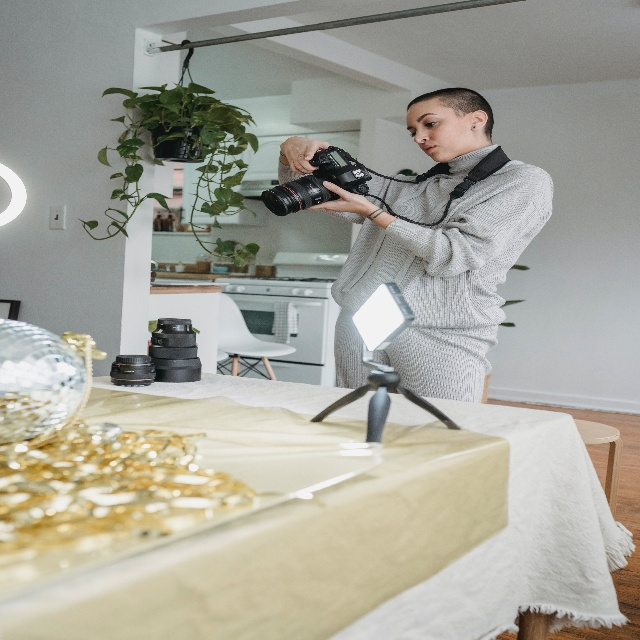Sin_guantes: (305, 180, 368, 216), (280, 133, 330, 174)
